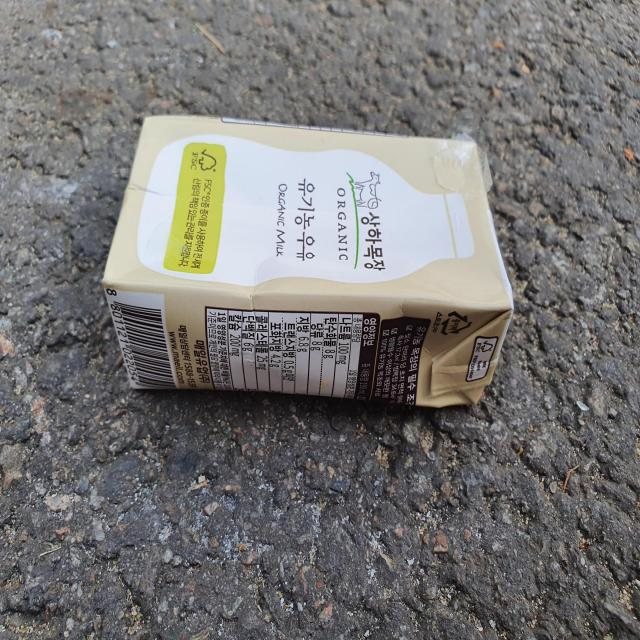paperpack: (102, 115, 514, 407)
